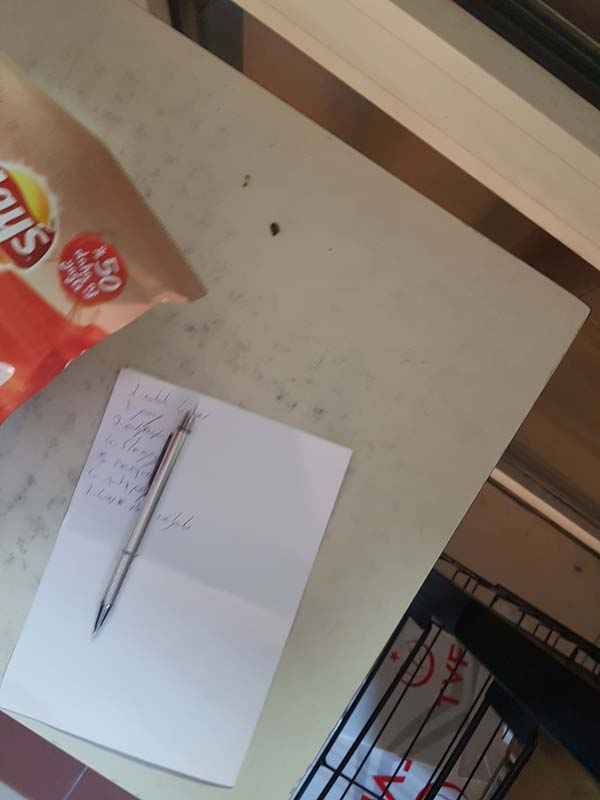laysfirindan: (4, 45, 210, 432)
